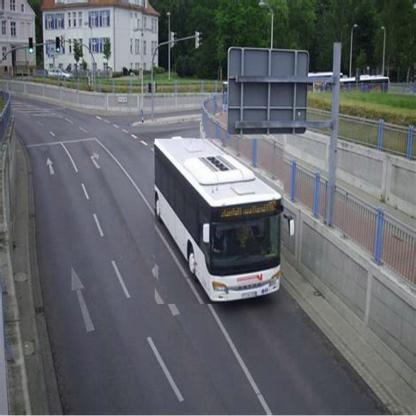bus: (156, 140, 285, 306)
